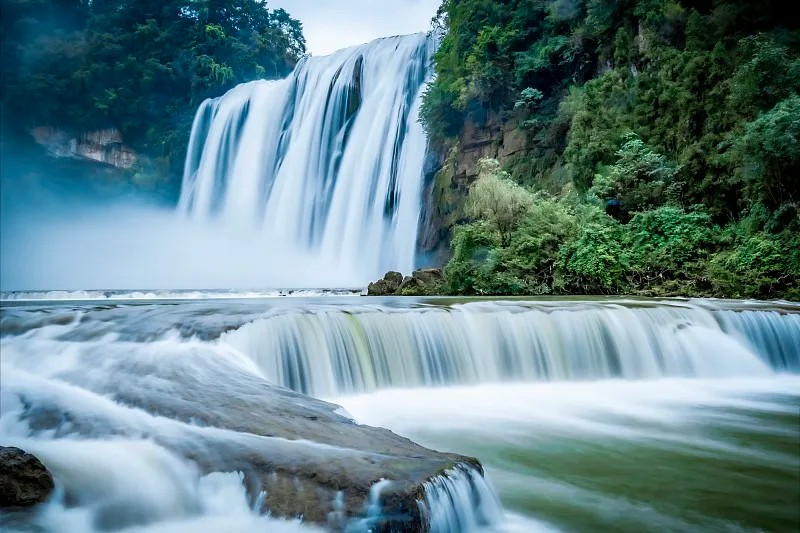Huangguoshu: (177, 28, 428, 285)
